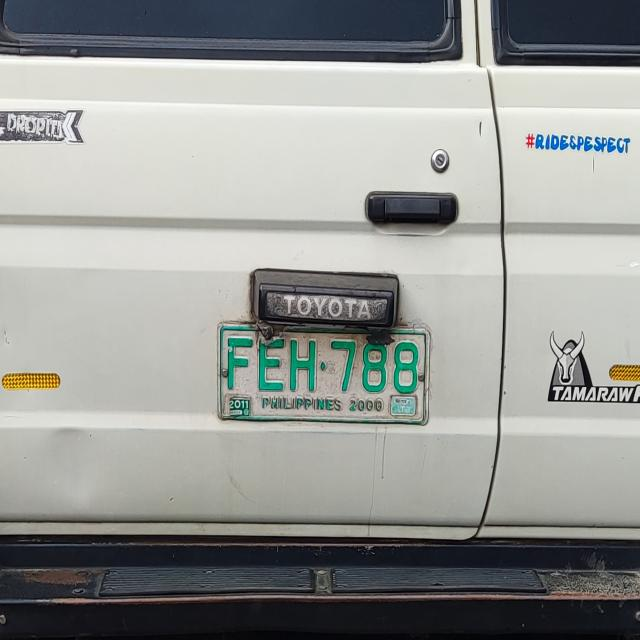plate: (216, 321, 432, 427)
